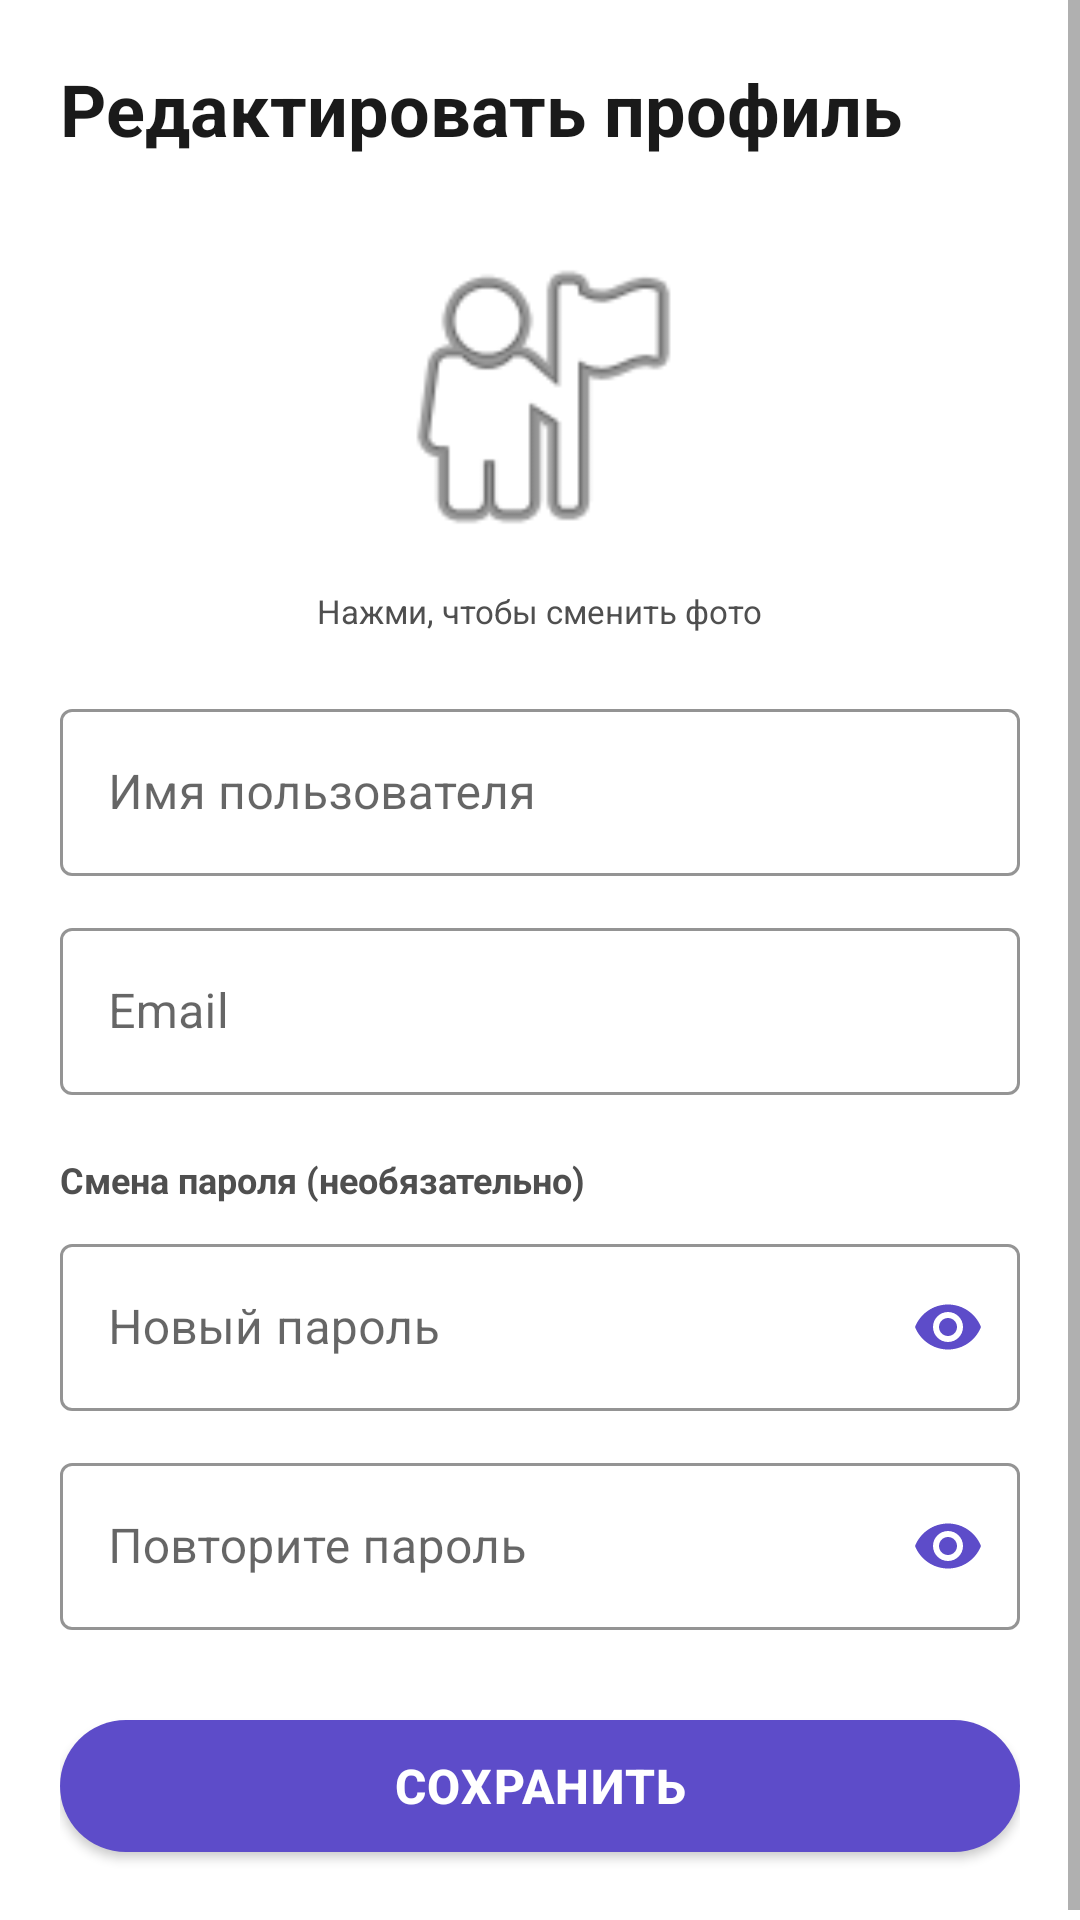

Point at icon controls on the screen. Image size 1080 x 1920, points as (x=x, y=y).
Аватар: (x=543, y=397)
